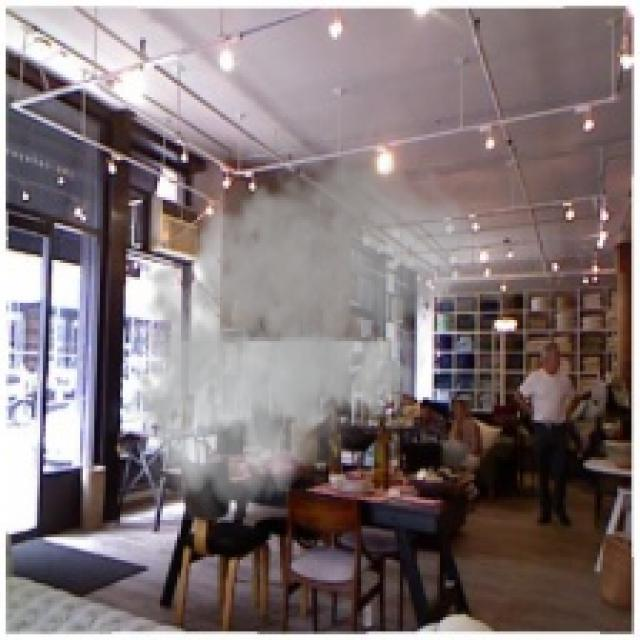Smoke: (126, 137, 477, 520)
